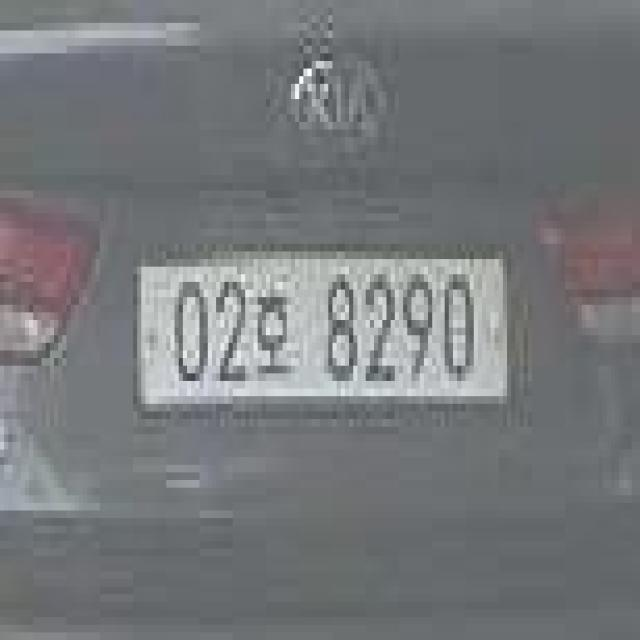illegal_plate: (135, 243, 514, 429)
